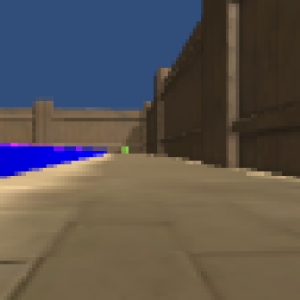goodGoal: (117, 144, 133, 158)
platform: (1, 142, 109, 176)
